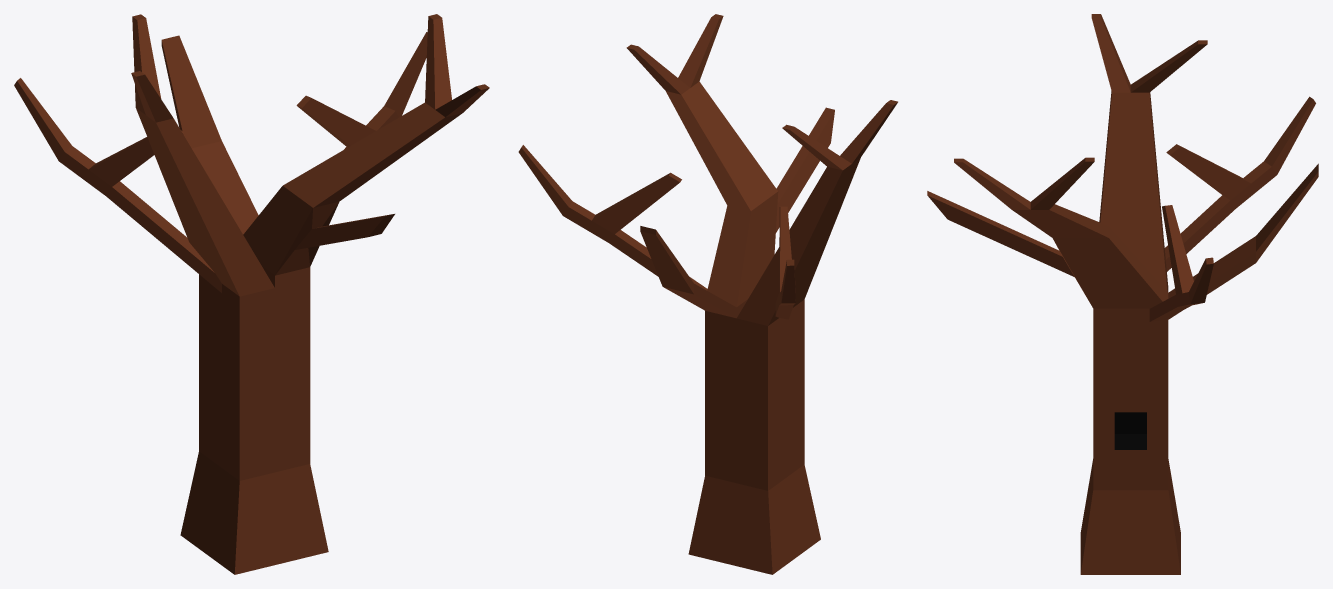
The model's file is tree_1.gltf.
The picture shows the model from 3 angles, left to right: view 1: azimuth 30°, elevation 25°; view 2: azimuth 150°, elevation 25°; view 3: azimuth 270°, elevation 25°; orthographic projection. The views are drawn at different scales.
Visible parts, largest first — view 1: cuboid (×3); view 2: cuboid (×3); view 3: cuboid (×3).
Boxes of the visible parts, x1,y1,x2,y2 form: cuboid (×3): [14, 14, 489, 574]; cuboid (×3): [518, 14, 897, 574]; cuboid (×3): [927, 14, 1318, 574].
Size of the model in its own units: 1.93 by 2.62 by 1.95.
1 material, 1 textured.
